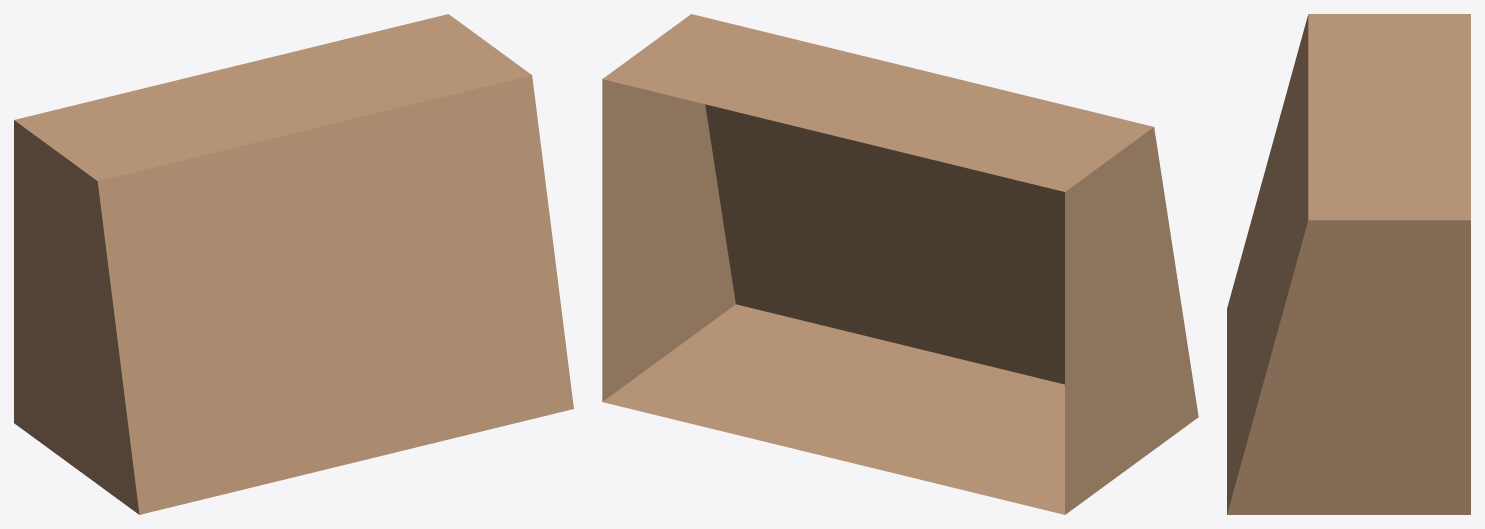
File: DungeonWall.fbx
3 views of the same model, side by side, from view 1: azimuth 30°, elevation 25°; view 2: azimuth 150°, elevation 25°; view 3: azimuth 270°, elevation 25° (orthographic). The views are drawn at different scales.
Parts seen in each view (by area): view 1: Pillar; view 2: Pillar; view 3: Pillar.
Boxes of the visible parts, <box> form: Pillar: <box>14,14,573,514</box>; Pillar: <box>602,14,1198,514</box>; Pillar: <box>1227,14,1470,514</box>.
Bounding box in the file's own units: 3 × 2 × 1.5.
